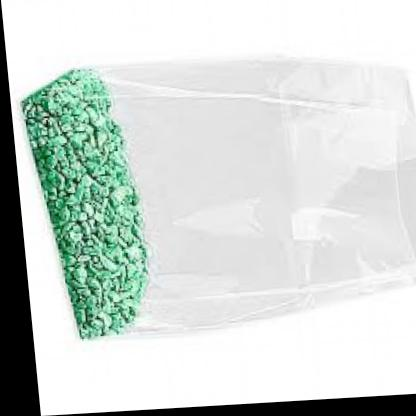Plastic: (142, 42, 416, 356), (34, 65, 146, 348)
